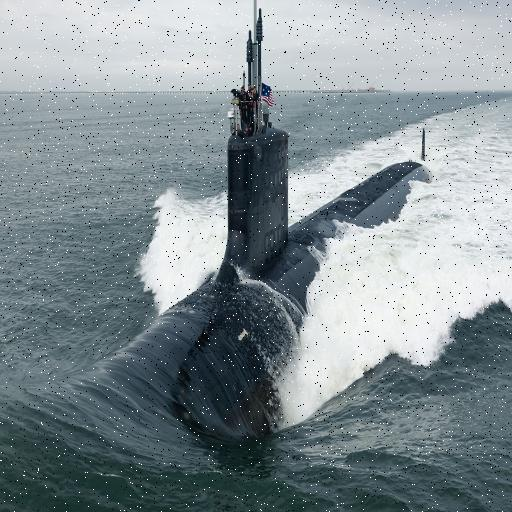submarine: (111, 1, 436, 448)
